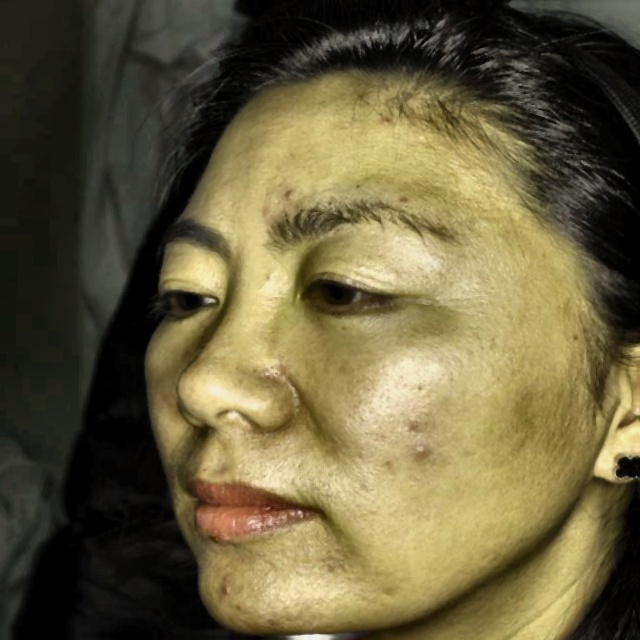comedone: (396, 434, 438, 463), (211, 577, 256, 603), (269, 184, 299, 209), (373, 105, 397, 136)
